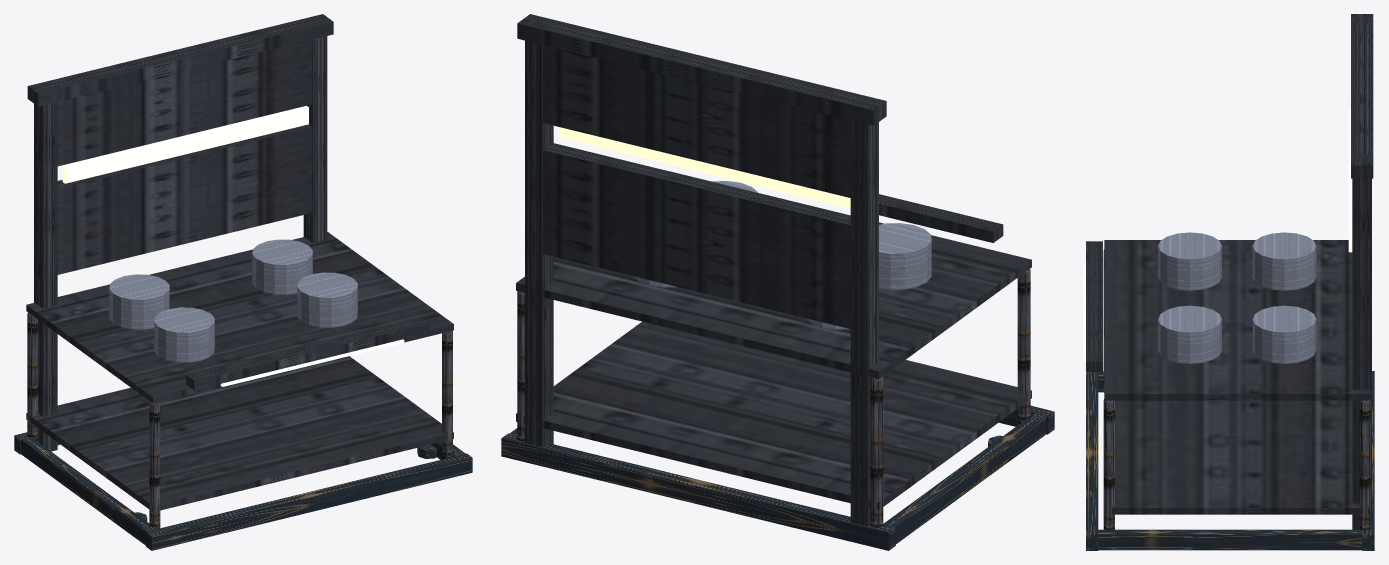
The model's file is transit_platecart.glb.
The picture shows the model from 3 angles, left to right: view 1: azimuth 30°, elevation 25°; view 2: azimuth 150°, elevation 25°; view 3: azimuth 270°, elevation 25°; orthographic projection. The views are drawn at different scales.
Parts seen in each view (by area): view 1: sight_shell, shelf0, shelf1, shelltoe0, sightglow, shellrim0, shelltoes0, stack1, stack0, stack2, stack3, post00 (+4 smaller); view 2: sight_shell, shelf0, shelf1, shelltoe2, shelltoes0, sightglow, stack0, shellrim2, post02, post00, post22, shellrim0; view 3: shelf1, shelf0, sight_shell, shelltoes2, stack2, stack3, stack0, stack1, shelltoe0, shellrim0, post20, post22 (+3 smaller).
Part boxes in pixels (x1,y1,x2,y2): sight_shell: (27, 14, 333, 451); shelf0: (26, 356, 453, 512); shelf1: (26, 232, 453, 403); shelltoe0: (146, 453, 472, 550); sightglow: (62, 106, 308, 183); shellrim0: (188, 322, 429, 390); shelltoes0: (20, 437, 156, 545); stack1: (297, 272, 357, 327); stack0: (154, 307, 214, 362); stack2: (109, 274, 169, 329); stack3: (252, 239, 312, 294); post00: (149, 402, 160, 528); sight_shell: (517, 14, 886, 526); shelf0: (516, 321, 1031, 509); shelf1: (516, 171, 1031, 379); shelltoe2: (501, 433, 895, 550); shelltoes0: (882, 413, 1048, 543); sightglow: (559, 127, 850, 208); stack0: (879, 223, 931, 289); shellrim2: (879, 197, 999, 242); post02: (870, 376, 883, 527); post00: (1017, 269, 1030, 424); post22: (517, 291, 524, 441); shellrim0: (879, 194, 1003, 240); shelf1: (1104, 240, 1370, 400); shelf0: (1104, 400, 1370, 514); sight_shell: (1351, 14, 1373, 529); shelltoes2: (1098, 529, 1362, 550); stack2: (1252, 232, 1316, 290); stack3: (1252, 305, 1316, 363); stack0: (1158, 232, 1221, 290); stack1: (1158, 305, 1221, 363); shelltoe0: (1086, 372, 1098, 550); shellrim0: (1086, 241, 1098, 371); post20: (1103, 399, 1114, 530); post22: (1359, 399, 1370, 530).
Size of the model in its own units: 1.58 by 1.7 by 1.18.
7 materials, 6 textured.
